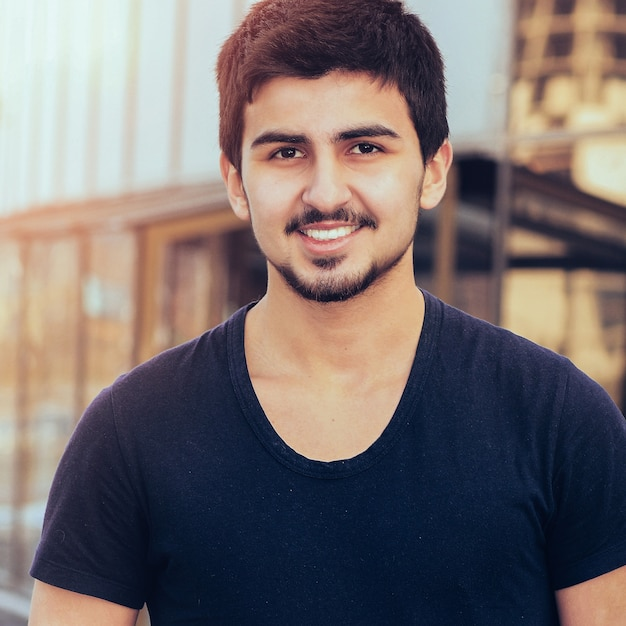young: (190, 4, 481, 324)
